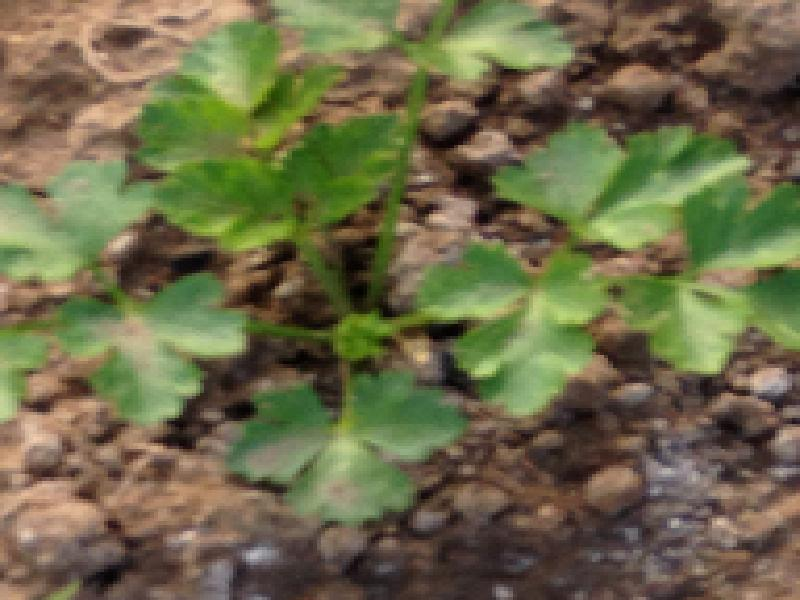radish: (0, 78, 676, 590)
